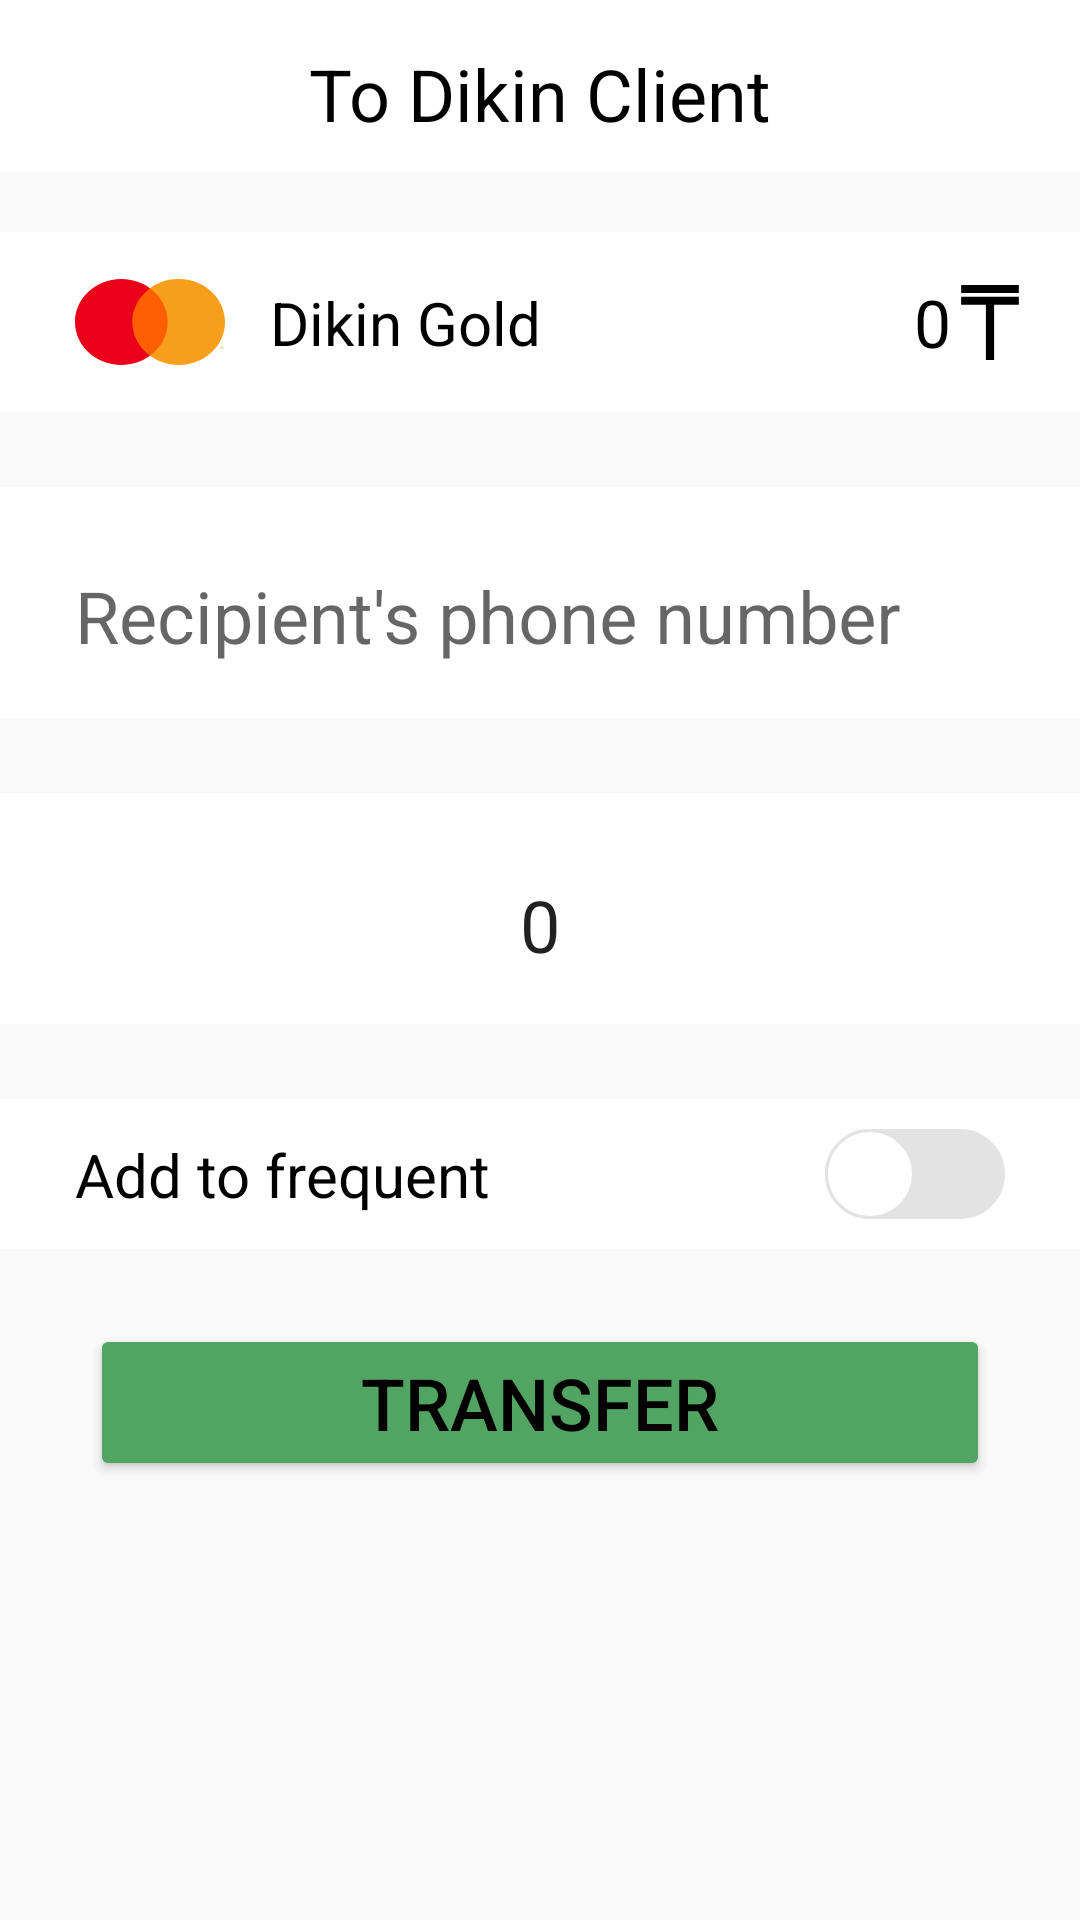

Screen size 1080 x 1920. Icon name, then its center in pixels as (x,y):
Tenge Sign: (990,322)
